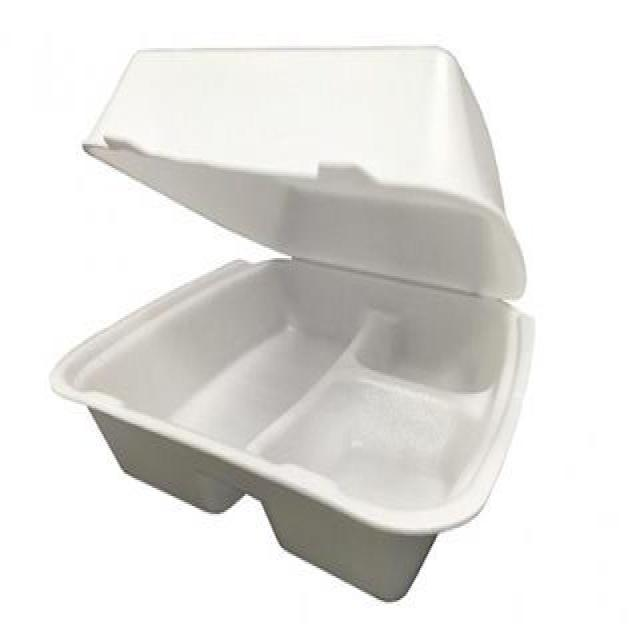styrofoam: (49, 42, 536, 602), (80, 42, 528, 302)
